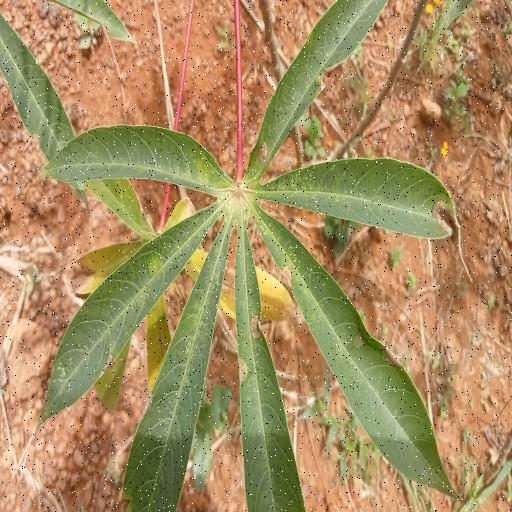Cassava_Brown_Leaf_Spot: (42, 0, 467, 512)
